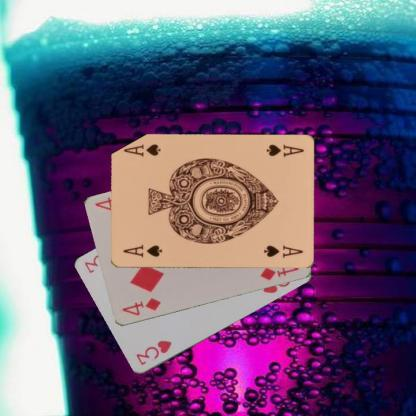3h: (133, 338, 173, 367)
4d: (119, 295, 162, 317)
As: (120, 243, 163, 259), (264, 142, 305, 158)
